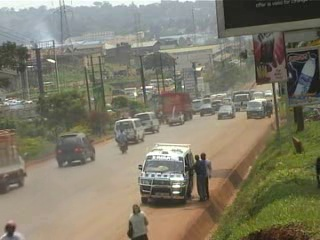Car: (51, 130, 96, 168), (214, 103, 239, 121), (197, 102, 216, 116), (211, 98, 222, 116)
Motorcycle: (115, 137, 129, 153)
